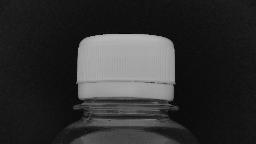Good Cap: (69, 29, 179, 114)
